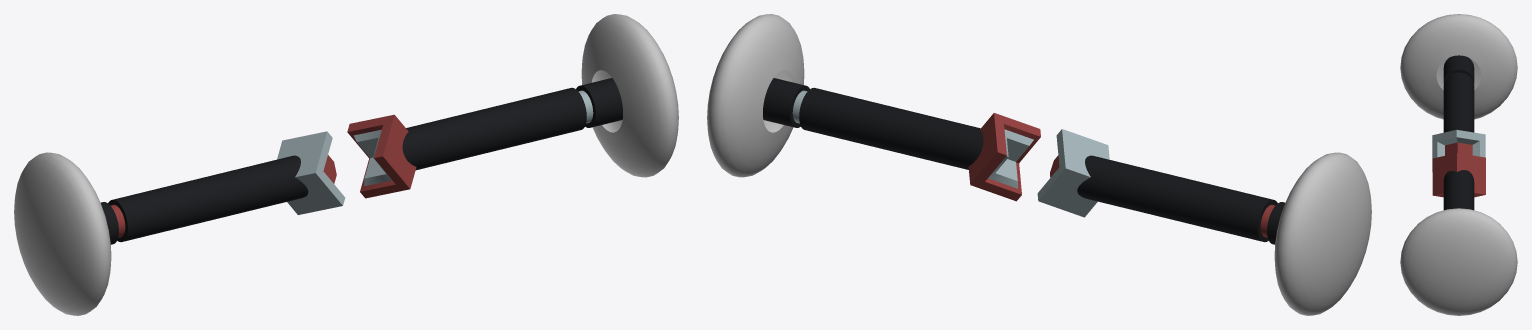
The picture shows the model from 3 angles, left to right: view 1: azimuth 30°, elevation 25°; view 2: azimuth 150°, elevation 25°; view 3: azimuth 270°, elevation 25°; orthographic projection. The views are drawn at different scales.
Parts seen in each view (by area): view 1: CG; view 2: CG; view 3: CG.
Boxes of the visible parts, bbox=[...] form: CG: bbox=[14, 14, 678, 315]; CG: bbox=[707, 14, 1371, 315]; CG: bbox=[1400, 14, 1517, 315].
Bounding box in the file's own units: 1165 × 273 × 273.
